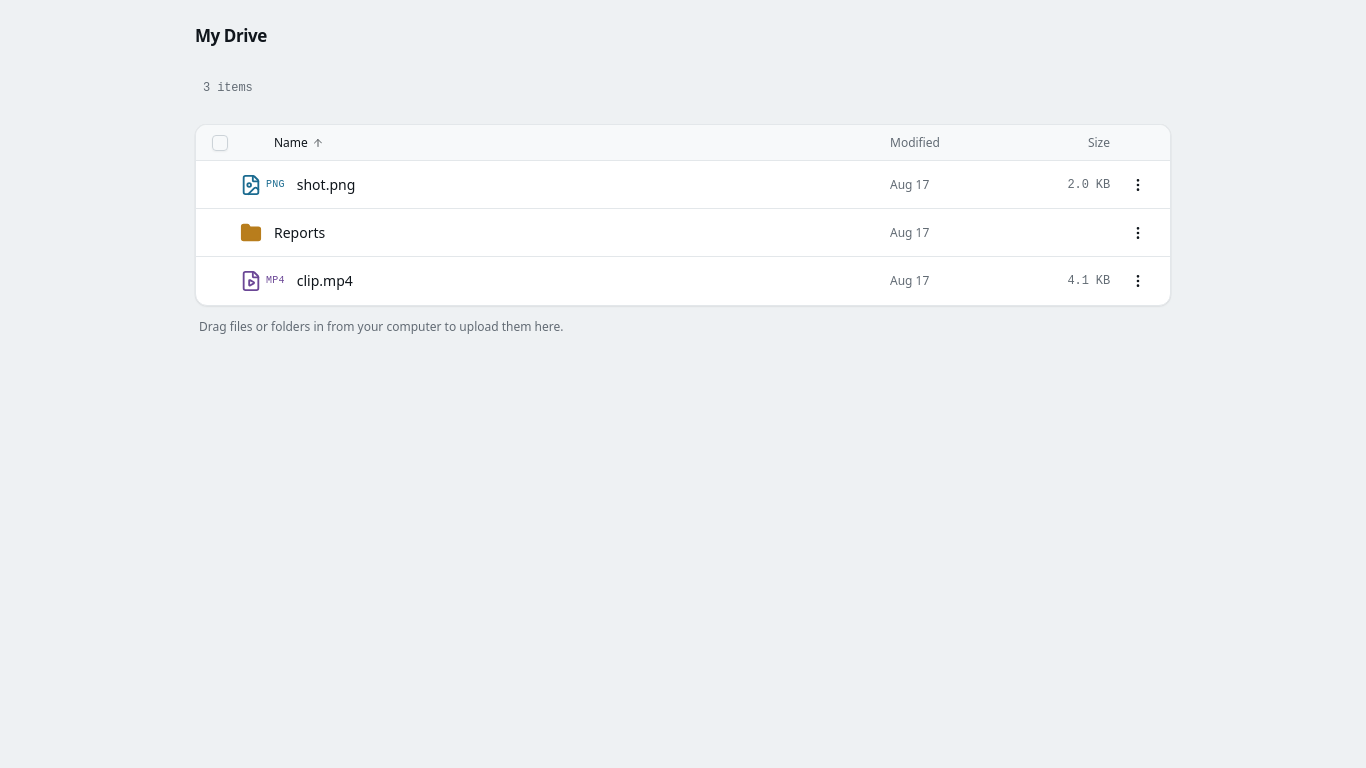
Test: opening a preview › steps between files with the arrow keys, skipping the folders between them
Expected: the link "clip.mp4" is shown, [297, 271, 353, 290]
Click the link "shot.png".
click(326, 184)  # box [297, 175, 355, 194]
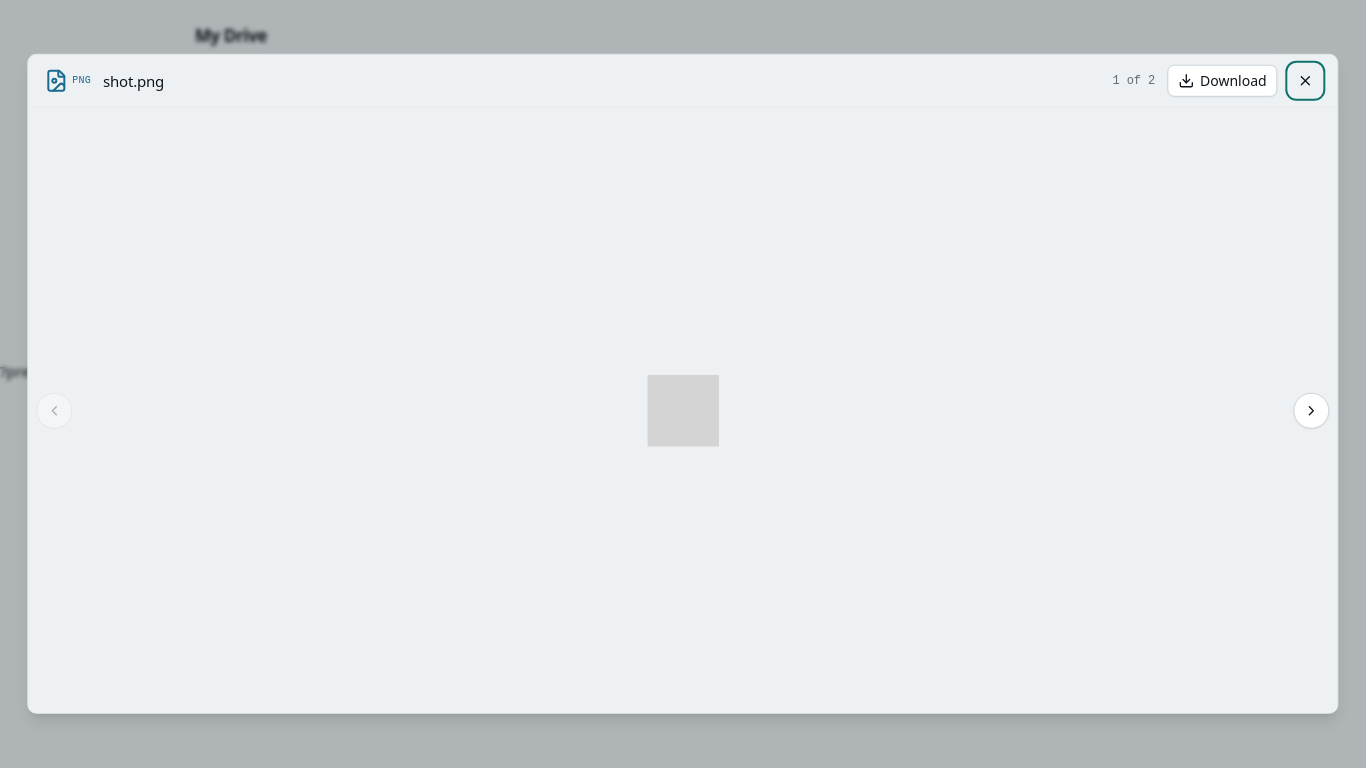
Expected: the text "1 of 2" is shown, [1112, 72, 1155, 90]
Press Arrowright
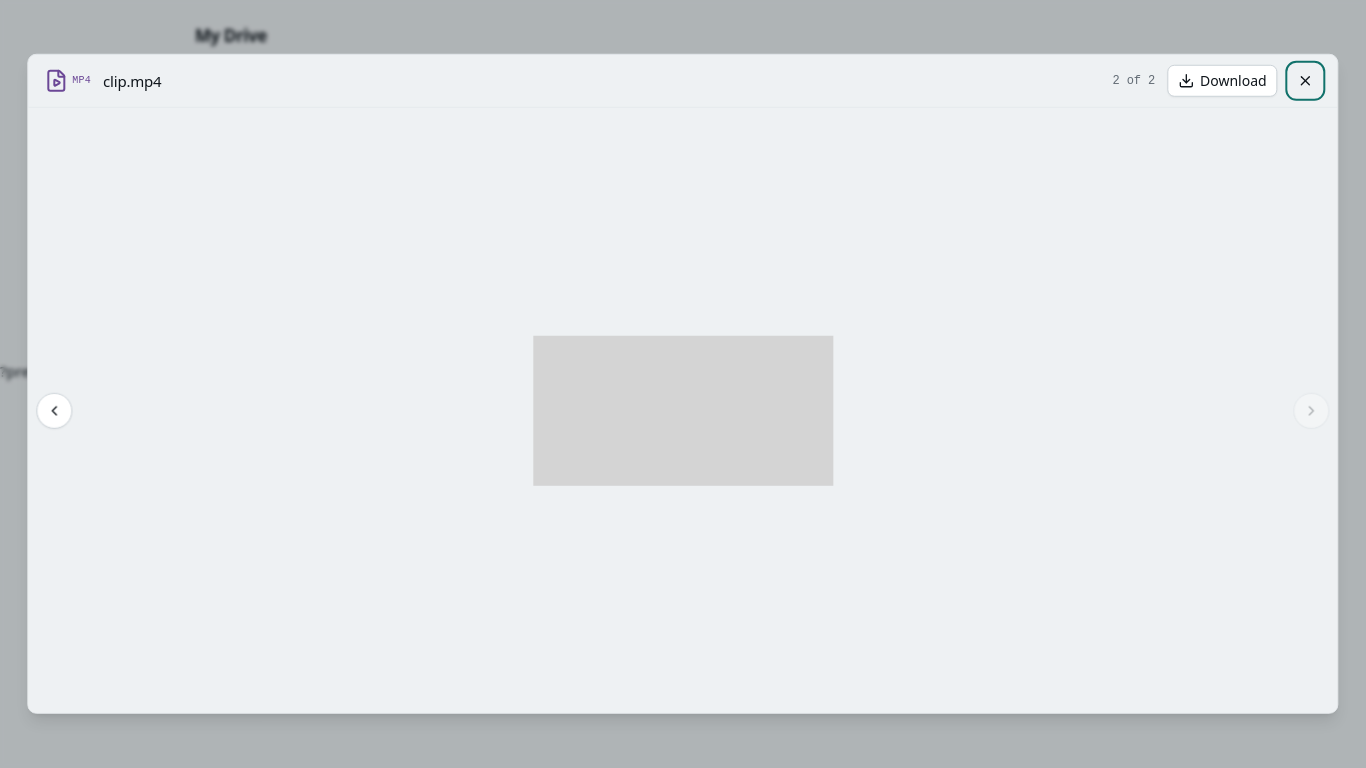
Expected: the text with test id "where" reads "?preview=f3", [0, 361, 84, 381]
Expected: the text "2 of 2" is shown, [1112, 72, 1155, 90]
Expected: the heading "clip.mp4" is shown, [103, 70, 161, 90]
